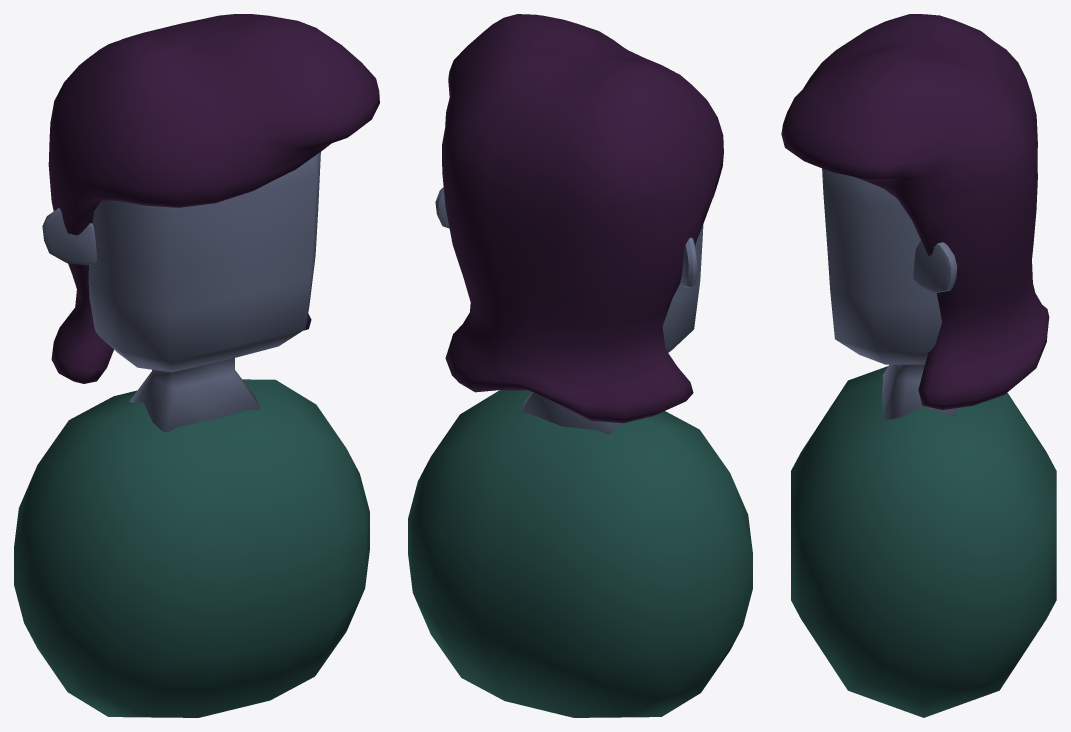
File: convobot_mom.fbx
3 renders of one model, left to right at view 1: azimuth 30°, elevation 25°; view 2: azimuth 150°, elevation 25°; view 3: azimuth 270°, elevation 25°, orthographic. The views are drawn at different scales.
Visible parts, largest first — view 1: MomBot, hair, head, R_ear; view 2: hair, MomBot, head, R_ear; view 3: MomBot, hair, head, L_ear.
Boxes of the visible parts, bbox=[...] form: MomBot: bbox=[14, 379, 369, 717]; hair: bbox=[48, 14, 379, 383]; head: bbox=[88, 152, 320, 432]; R_ear: bbox=[42, 208, 97, 265]; hair: bbox=[442, 14, 723, 423]; MomBot: bbox=[408, 390, 752, 717]; head: bbox=[520, 224, 703, 435]; R_ear: bbox=[680, 237, 697, 287]; MomBot: bbox=[791, 366, 1056, 717]; hair: bbox=[781, 14, 1049, 409]; head: bbox=[822, 168, 956, 420]; L_ear: bbox=[913, 240, 957, 292].
Size of the model in its own units: 900 by 1818 by 690.
